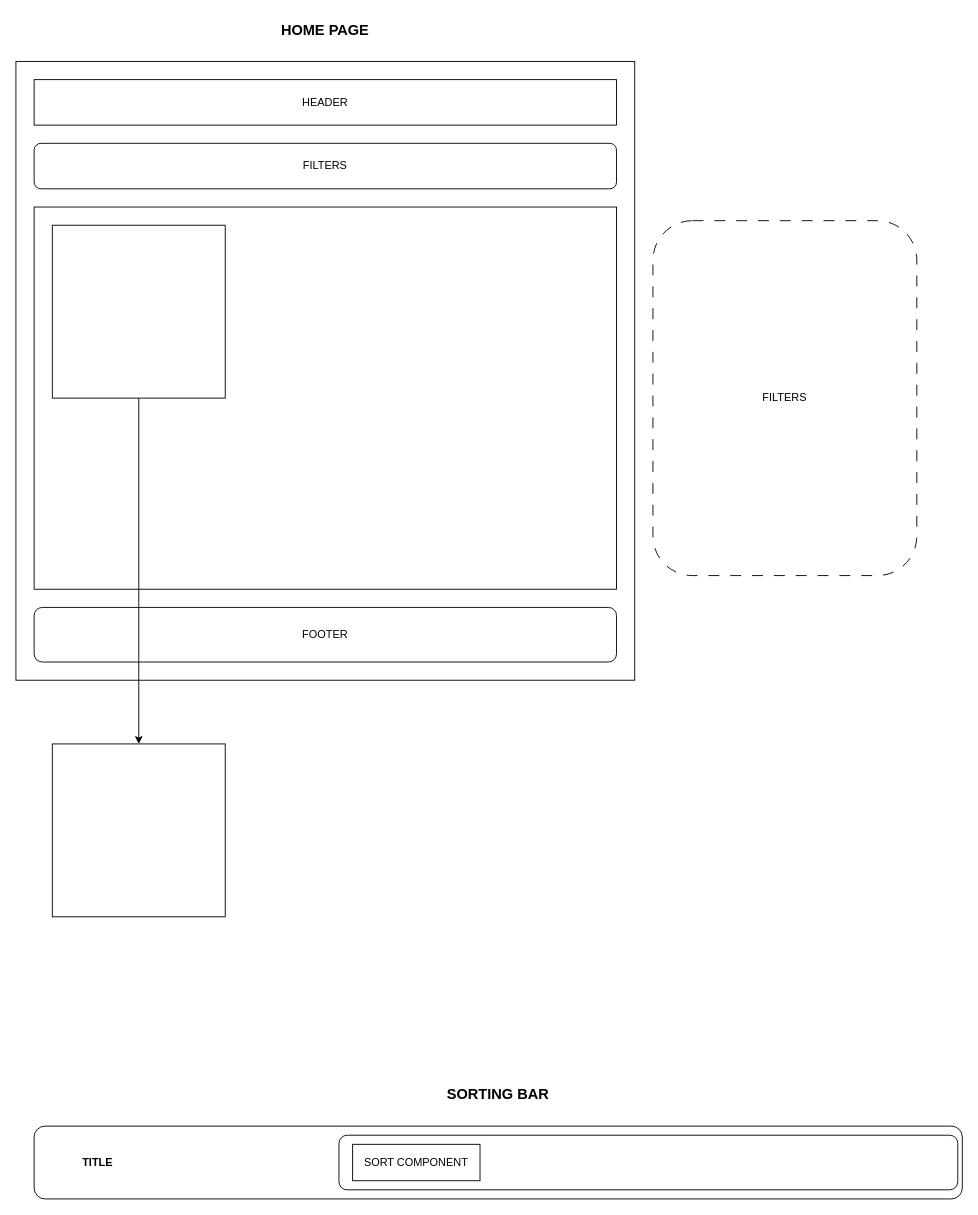
Image size: 978x1215. Some labels were removed from this diagram. Each missing label, with the box of its shape:
MAIN: (33, 206, 617, 589)
ResturantCard: (51, 743, 225, 917)
SORT LIST: (338, 1134, 958, 1190)
